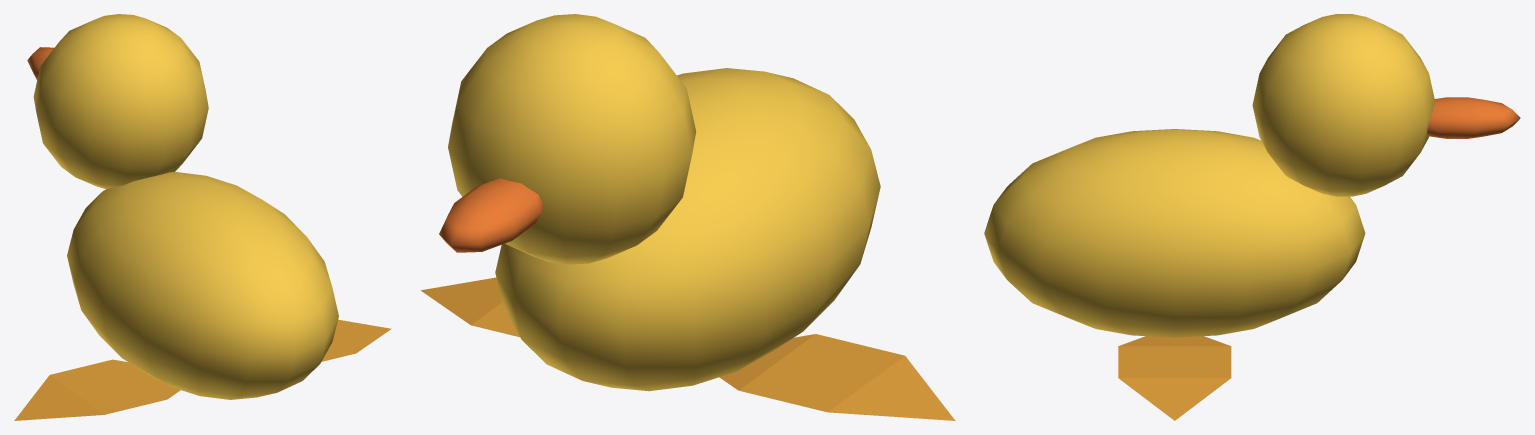
File: duck.glb
3 renders of one model, left to right at view 1: azimuth 30°, elevation 25°; view 2: azimuth 150°, elevation 25°; view 3: azimuth 270°, elevation 25°, orthographic. The views are drawn at different scales.
Parts seen in each view (by area): view 1: Duck, WingL, WingR; view 2: Duck, WingL, WingR; view 3: Duck, WingR.
Part boxes in pixels (x1,y1,x2,y2): Duck: (27,14,338,399); WingL: (14,359,180,420); WingR: (321,319,391,361); Duck: (439,14,880,391); WingL: (719,334,955,420); WingR: (421,277,519,337); Duck: (984,14,1520,337); WingR: (1118,336,1231,420).
Bounding box in the file's own units: 0.32 × 0.237 × 0.38.
